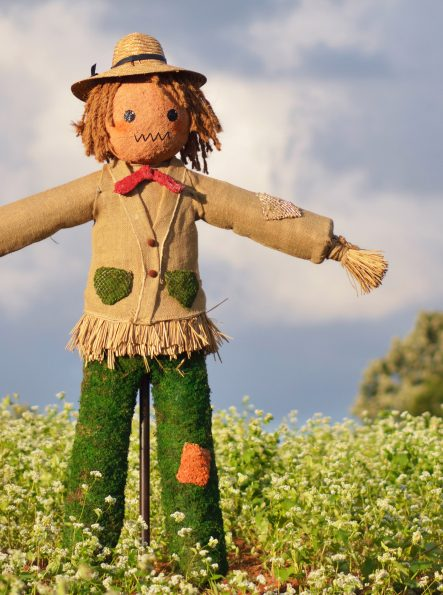person-like: (1, 29, 395, 584)
